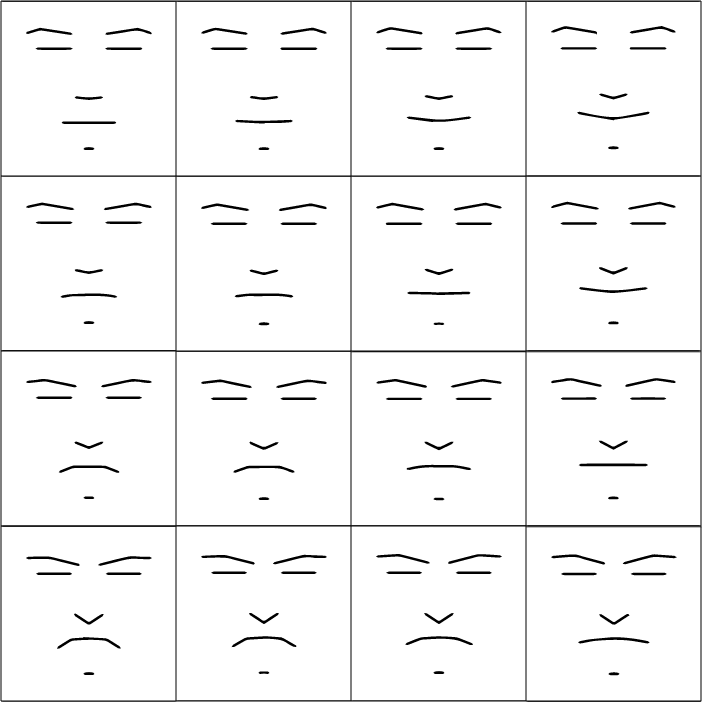feliz: (373, 14, 504, 164), (545, 13, 674, 162)
